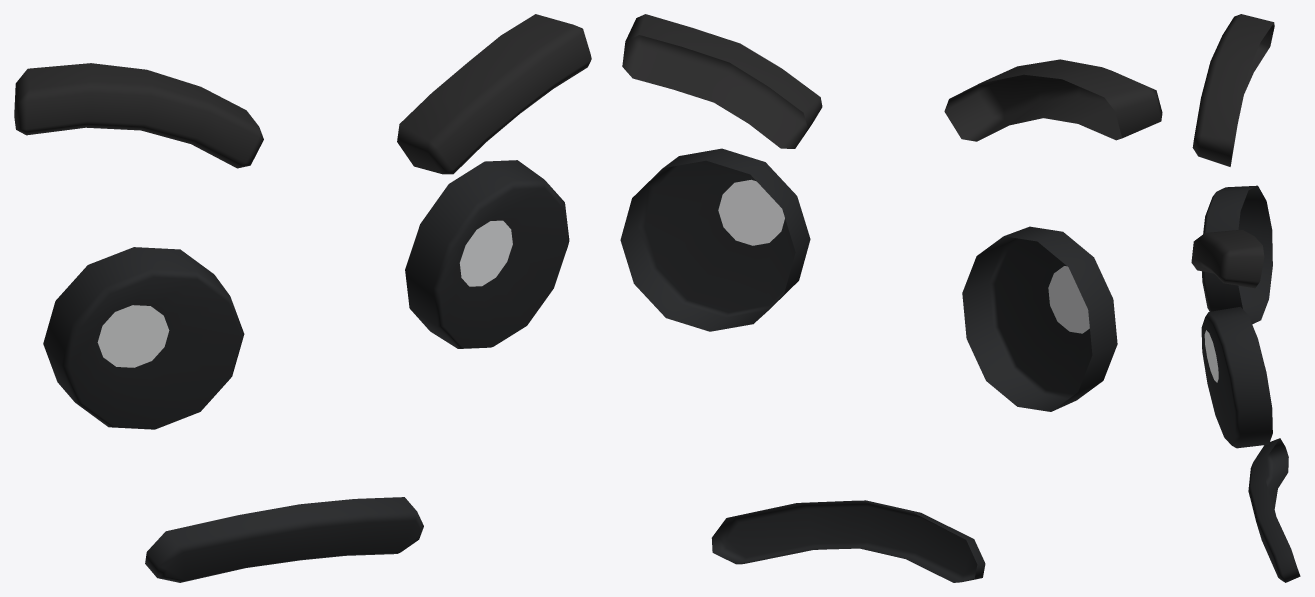
File: Male_Emotion_Confuse_01.glb
3 views of the same model, side by side, from view 1: azimuth 30°, elevation 25°; view 2: azimuth 150°, elevation 25°; view 3: azimuth 270°, elevation 25° (orthographic). The views are drawn at different scales.
Visible parts, largest first — view 1: Male_Emotion_Confuse_01; view 2: Male_Emotion_Confuse_01; view 3: Male_Emotion_Confuse_01.
Part boxes in pixels (x1=…): Male_Emotion_Confuse_01: x1=14, y1=14, x2=591, y2=582; Male_Emotion_Confuse_01: x1=620, y1=14, x2=1162, y2=582; Male_Emotion_Confuse_01: x1=1191, y1=14, x2=1300, y2=582.
Size of the model in its own units: 0.2096 by 0.2061 by 0.0479.
Materials: 1 (1 with a texture image).
